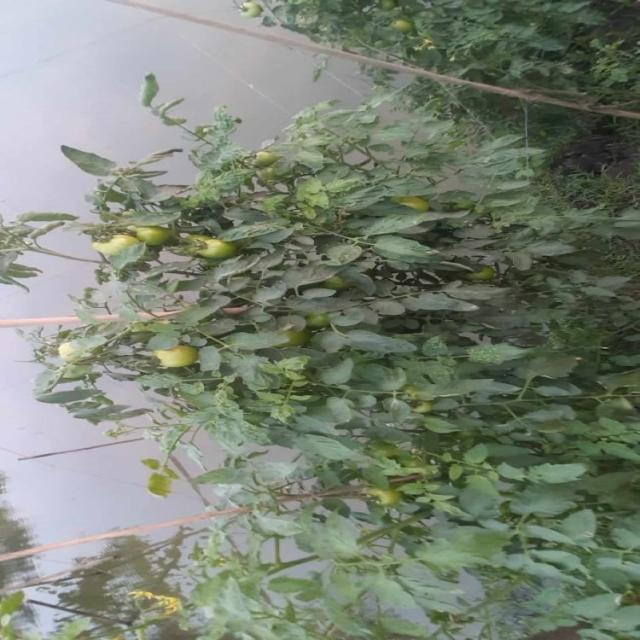tomato: (129, 212, 175, 257), (189, 237, 243, 268), (148, 343, 202, 373), (243, 140, 280, 178), (93, 229, 139, 258), (49, 335, 88, 366), (385, 15, 418, 42), (359, 487, 396, 511)
